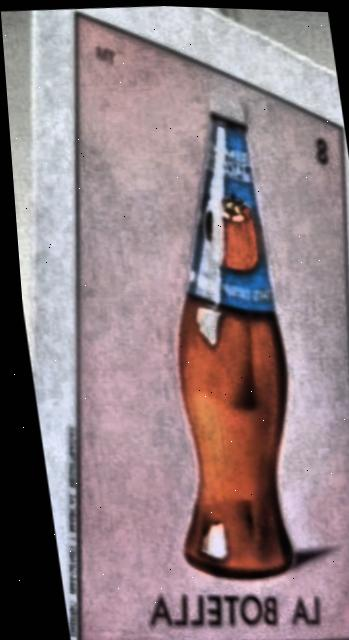La Botella: (64, 9, 349, 640)
